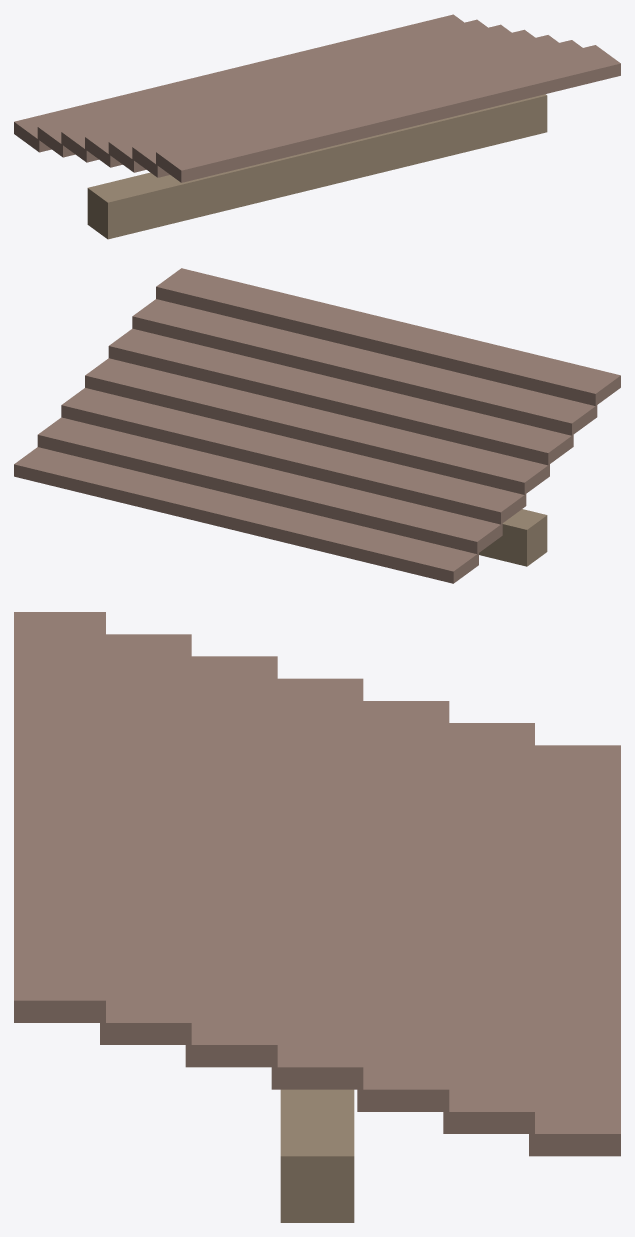
Rendered from iz3_neighborhood_çatı_geniş.glb.
3 renders of one model, top to bottom at view 1: azimuth 30°, elevation 25°; view 2: azimuth 150°, elevation 25°; view 3: azimuth 270°, elevation 25°, orthographic. The views are drawn at different scales.
Visible parts, largest first — view 1: roof_base, tile_row_06, tile_row_01, tile_row_04, tile_row_05, tile_row_00, tile_row_03, tile_row_02; view 2: tile_row_06, tile_row_05, tile_row_01, tile_row_04, tile_row_02, tile_row_00, tile_row_03, roof_base; view 3: tile_row_06, tile_row_04, tile_row_03, tile_row_02, tile_row_00, tile_row_01, tile_row_05, roof_base.
Part boxes in pixels (x1,y1,x2,y2): roof_base: (87, 94, 547, 239); tile_row_06: (156, 45, 620, 182); tile_row_01: (37, 19, 487, 157); tile_row_04: (108, 35, 558, 172); tile_row_05: (132, 40, 582, 177); tile_row_00: (14, 14, 463, 152); tile_row_03: (85, 29, 535, 167); tile_row_02: (61, 24, 511, 162); tile_row_06: (156, 268, 620, 405); tile_row_05: (132, 299, 597, 435); tile_row_01: (37, 417, 502, 553); tile_row_04: (108, 328, 573, 465); tile_row_02: (61, 388, 526, 524); tile_row_00: (14, 447, 478, 583); tile_row_03: (85, 358, 549, 494); roof_base: (479, 509, 547, 566); tile_row_06: (14, 612, 105, 1022); tile_row_04: (185, 656, 277, 1067); tile_row_03: (271, 678, 363, 1089); tile_row_02: (357, 701, 449, 1111); tile_row_00: (529, 745, 620, 1156); tile_row_01: (443, 723, 534, 1133); tile_row_05: (100, 634, 191, 1044); roof_base: (280, 1089, 354, 1222).
Size of the model in its own units: 3 by 0.8 by 1.98.
